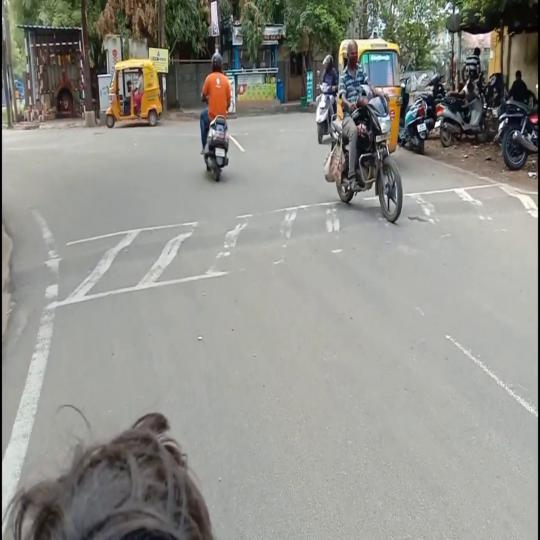Speed Bump: (11, 205, 379, 294), (403, 192, 538, 222)
